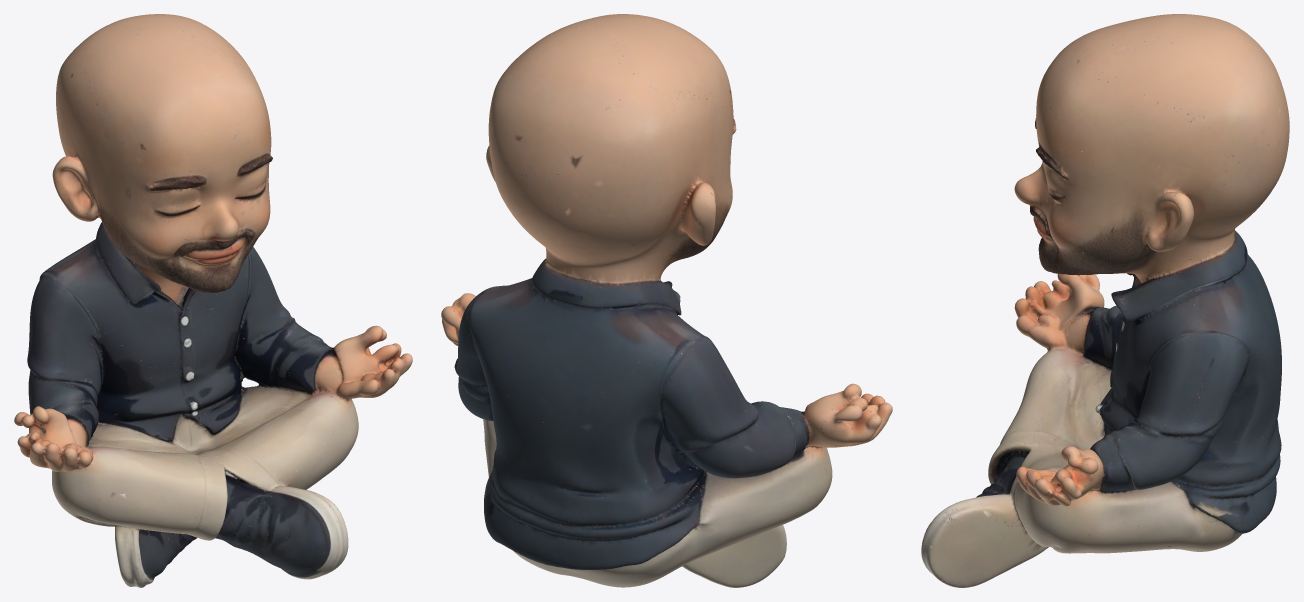
Rendered from avatar-yoga.glb.
The picture shows the model from 3 angles, left to right: view 1: azimuth 30°, elevation 25°; view 2: azimuth 150°, elevation 25°; view 3: azimuth 270°, elevation 25°; orthographic projection. The views are drawn at different scales.
Bounding box in the file's own units: 1.6 × 2 × 1.23.
1 material, 1 textured.
